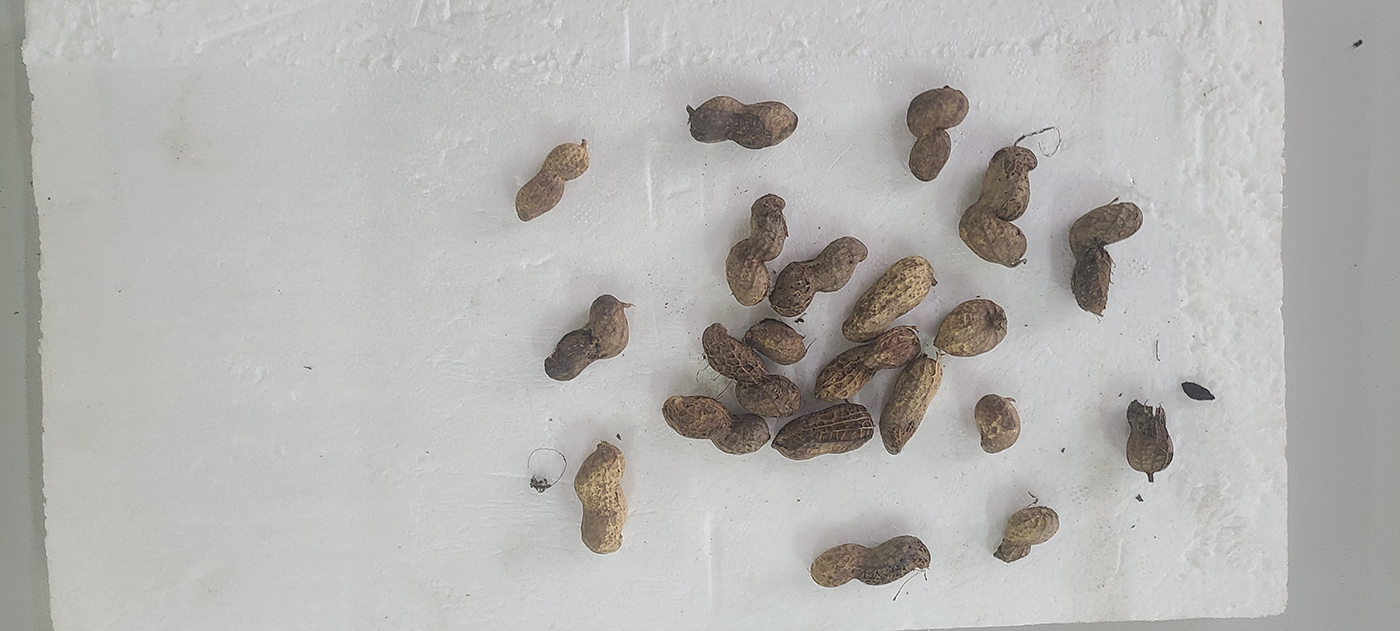l: (959, 145, 1040, 265), (703, 323, 803, 416), (1066, 202, 1143, 313), (841, 256, 933, 343), (814, 325, 920, 400), (771, 237, 867, 317), (544, 295, 630, 382), (723, 193, 789, 305), (663, 395, 771, 454), (810, 535, 930, 588), (574, 442, 628, 554), (689, 95, 798, 149), (774, 402, 875, 460), (515, 143, 589, 221), (935, 300, 1008, 357), (995, 505, 1060, 564), (1125, 400, 1174, 474), (908, 86, 970, 136), (973, 392, 1021, 453), (745, 319, 806, 364), (909, 131, 951, 182)
